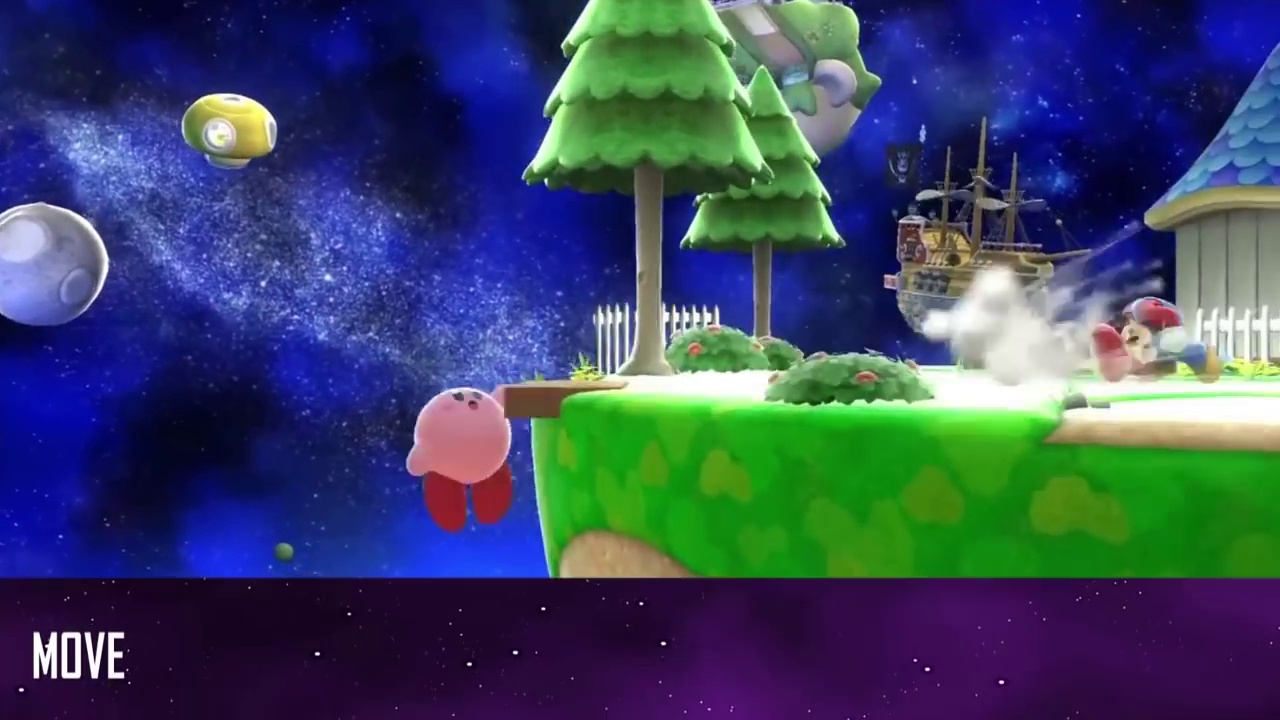Mario: (1092, 297, 1218, 383)
